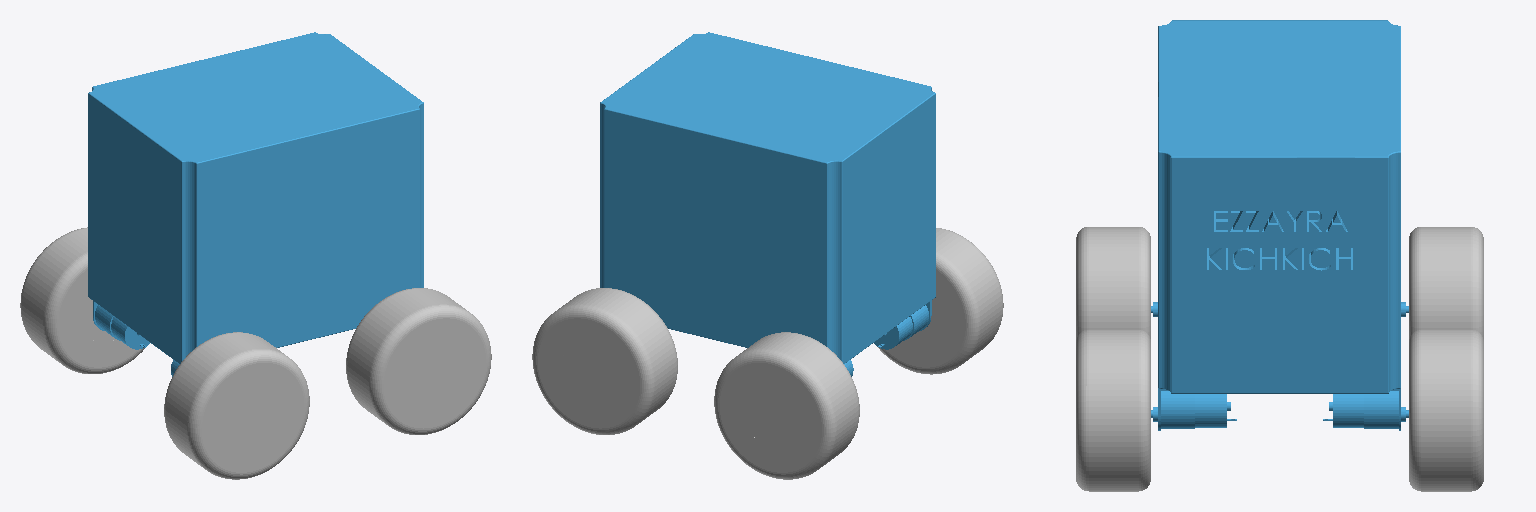
URDF robot description (bot):
<?xml version="1.0"?>
<robot name="bot">
    <gazebo>
        <plugin name="gazebo_ros_control" filename="libgazebo_ros_control.so">
            <legacyModeNS>true</legacyModeNS>
        </plugin>
    </gazebo>
<!--links-->

    <link name="base_footprint">
        <origin xyz="0.0 0.0 0.0" rpy="0.0 0.0 0.0"/>
    </link>
    <link name="base_link">
        <visual >
            <origin xyz="0.0 0.0 0.0" rpy="0.0 0.0 0.0"/>
            <geometry>
                <mesh filename="package://bot_description/models/meshes/body.dae"/>
            </geometry>
        </visual>
        <collision>
            <origin xyz="0.0 0.0 0.0" rpy="0.0 0.0 0.0"/>
            <geometry>
                <mesh filename="package://bot_description/models/meshes/body.dae"/>
            </geometry>
        </collision>
        <inertial>
            <origin xyz="0.0 0.0 0.0" rpy="0.0 0.0 0.0"/>
            <mass value="2.78"/>
            <inertia ixx="0.0290046666667" ixy="0.0" ixz="0.0" iyy="0.022153125" iyz="0.0" izz="0.0244697916667"/>
        </inertial>
    </link>
    <link name="imu_link">
        <inertial>
            <origin xyz="0.0 0.0 0.0" rpy="0.0 1.5707 0"/>
            <mass value="0.001"/>
            <inertia ixx="0.0000001" ixy="0.000000" ixz="0.000000" iyy="0.00000001" iyz="0.0" izz="0.000000001"/>
        </inertial>
        <visual>
            <origin xyz="0.0 0.0 0.0" rpy="0.0 0.0 0.0"/>
            <geometry>
                <box size="0.001 0.001 0.001"/>
            </geometry>
        </visual>
        <collision>
            <origin xyz="0.0 0.0 0.0" rpy="0.0 0.0 0.0"/>
            <geometry>
                <box size="0.001 0.001 0.001"/>
            </geometry>
        </collision>
    </link>
    <link name="RFW_link">
        <visual >
            <origin xyz="0.0 0.0 0.0" rpy="0.0 0.0 0.0"/>
            <geometry>
                <mesh filename="package://bot_description/models/meshes/roue.dae"/>
            </geometry>
        </visual>
        <collision>
            <origin xyz="0.0 0.0 0.0" rpy="0.0 0.0 0.0"/>
            <geometry>
                <mesh filename="package://bot_description/models/meshes/roue.dae"/>
            </geometry>
        </collision>
        <inertial>
            <origin xyz="0.0 0.0 0.0" rpy="0.0 0.0 0.0"/>
            <mass value="0.156"/>
            <inertia ixx="0.000211575" ixy="0.0" ixz="0.0" iyy="0.000211575" iyz="0.0" izz="0.00032955"/>
        </inertial>
    </link>
    <link name="LFW_link">
        <visual >
            <origin xyz="0.0 0.0 0.0" rpy="0.0 0.0 0.0"/>
            <geometry>
                <mesh filename="package://bot_description/models/meshes/roue.dae"/>
            </geometry>
        </visual>
        <collision>
            <origin xyz="0.0 0.0 0.0" rpy="0.0 0.0 0.0"/>
            <geometry>
                <mesh filename="package://bot_description/models/meshes/roue.dae"/>
            </geometry>
        </collision>
        <inertial>
            <origin xyz="0.0 0.0 0.0" rpy="0.0 0.0 0.0"/>
            <mass value="0.156"/>
            <inertia ixx="0.000211575" ixy="0.0" ixz="0.0" iyy="0.000211575" iyz="0.0" izz="0.00032955"/>
        </inertial>
    </link>
    <link name="RBW_link">
        <visual >
            <origin xyz="0.0 0.0 0.0" rpy="0.0 0.0 0.0"/>
            <geometry>
                <mesh filename="package://bot_description/models/meshes/roue.dae"/>
            </geometry>
        </visual>
        <collision>
            <origin xyz="0.0 0.0 0.0" rpy="0.0 0.0 0.0"/>
            <geometry>
                <mesh filename="package://bot_description/models/meshes/roue.dae"/>
            </geometry>
        </collision>
        <inertial>
            <origin xyz="0.0 0.0 0.0" rpy="0.0 0.0 0.0"/>
            <mass value="0.156"/>
            <inertia ixx="0.000211575" ixy="0.0" ixz="0.0" iyy="0.000211575" iyz="0.0" izz="0.00032955"/>
        </inertial>
    </link>
    <link name="LBW_link">
        <visual >
            <origin xyz="0.0 0.0 0.0" rpy="0.0 0.0 0.0"/>
            <geometry>
                <mesh filename="package://bot_description/models/meshes/roue.dae"/>
            </geometry>
        </visual>
        <collision>
            <origin xyz="0.0 0.0 0.0" rpy="0.0 0.0 0.0"/>
            <geometry>
                <mesh filename="package://bot_description/models/meshes/roue.dae"/>
            </geometry>
        </collision>
        <inertial>
            <origin xyz="0.0 0.0 0.0" rpy="0.0 0.0 0.0"/>
            <mass value="0.156"/>
            <inertia ixx="0.000211575" ixy="0.0" ixz="0.0" iyy="0.000211575" iyz="0.0" izz="0.00032955"/>
        </inertial>
    </link>
<!--joints-->
    <joint name="base_joint" type="fixed">
        <origin xyz="0.0 0.0 0.0" rpy="0.0 0.0 1.5707"/>
        <parent link="base_footprint"/>
        <child link="base_link"/>
    </joint>
    <joint name="imu_joint" type="fixed">
        <origin xyz="0.0 0.0 0.1" rpy="0.0 0.0 0.0"/>
        <parent link="base_link"/>
        <child link="imu_link"/>
    </joint>
    <joint name="RFW_joint" type="continuous">
        <origin xyz="0.130 0.0975 0.0" rpy="0.0 0.0 0.0"/>
        <parent link="base_link"/>
        <child link="RFW_link"/>
        <axis xyz="1.0 0.0 0.0"/>
        <limit effort="100" velocity="100"/> 
    </joint>
    <joint name="LFW_joint" type="continuous">
        <origin xyz="-0.137 0.0975 0.0" rpy="0.0 0.0 0.0"/>
        <parent link="base_link"/>
        <child link="LFW_link"/>
        <axis xyz="1.0 0.0 0.0"/>
        <limit effort="100" velocity="100"/> 
    </joint>
    <joint name="RBW_joint" type="continuous">
        <origin xyz="0.130 -0.0975 0.0" rpy="0.0 0.0 0.0"/>
        <parent link="base_link"/>
        <child link="RBW_link"/>
        <axis xyz="1.0 0.0 0.0"/>
        <limit effort="100" velocity="100"/> 
    </joint>
    <joint name="LBW_joint" type="continuous">
        <origin xyz="-0.137 -0.0975 0.0" rpy="0.0 0.0 0.0"/>
        <parent link="base_link"/>
        <child link="LBW_link"/>
        <axis xyz="1.0 0.0 0.0"/>
        <limit effort="100" velocity="100"/> 
    </joint>


<!--gazebo plugins-->
    <gazebo reference="RFW_link">
        <mu1>20000000000.0</mu1>
	    <mu2>20000000000.0</mu2>
	    <kp>1000000.0</kp>
	    <kd>1.0</kd>
	    <material>Gazebo/Black</material>
	</gazebo>
    <gazebo reference="LFW_link">
        <mu1>20000000000.0</mu1>
	    <mu2>20000000000.0</mu2>
	    <kp>1000000.0</kp>
	    <kd>1.0</kd>
	    <material>Gazebo/Black</material>
	</gazebo>
    <gazebo reference="RBW_link">
        <mu1>20000000000.0</mu1>
	    <mu2>20000000000.0</mu2>
	    <kp>1000000.0</kp>
	    <kd>1.0</kd>
	    <material>Gazebo/Black</material>
	</gazebo>
    <gazebo reference="LBW_link">
        <mu1>20000000000.0</mu1>
	    <mu2>20000000000.0</mu2>
	    <kp>1000000.0</kp>
	    <kd>1.0</kd>
	    <material>Gazebo/Black</material>
	</gazebo>
    <gazebo reference="base_link">
	    <material>Gazebo/Orange</material>
	</gazebo>

    <gazebo>
    <plugin name="imu_plugin" filename="libgazebo_ros_imu.so">
      <alwaysOn>true</alwaysOn>
      <bodyName>base_footprint</bodyName>
      <topicName>imu</topicName>
      <serviceName>imu_service</serviceName>
      <gaussianNoise>0.0</gaussianNoise>
      <updateRate>20.0</updateRate>
    </plugin>
  </gazebo>
    
    <gazebo>
        <plugin name="skid_steer_drive_controller" filename="libgazebo_ros_skid_steer_drive.so">
            <updateRate>100.0</updateRate>
            <leftFrontJoint>RFW_joint</leftFrontJoint>
            <rightFrontJoint>LFW_joint</rightFrontJoint>
            <leftRearJoint>RBW_joint</leftRearJoint>
            <rightRearJoint>LBW_joint</rightRearJoint>
            <wheelSeparation>0.21</wheelSeparation>
            <wheelDiameter>0.13</wheelDiameter>
            <robotBaseFrame>base_footprint</robotBaseFrame>
            <torque>20</torque>
            <topicName>cmd_vel</topicName>
            <broadcastTF>true</broadcastTF>
        </plugin>
    </gazebo>
    <gazebo>
        <plugin name="gps_controller" filename="libhector_gazebo_ros_gps.so">
            <alwayson>true</alwayson>
            <updaterate>1.0</updaterate>
            <bodyname>base_link</bodyname>
            <topicname>/fix</topicname>
            <velocitytopicname>/fix_velocity</velocitytopicname>
            <drift>5.0 5.0 5.0</drift>
            <gaussiannoise>0.1 0.1 0.1</gaussiannoise>
            <velocitydrift>0 0 0</velocitydrift>
            <velocitygaussiannoise>0.1 0.1 0.1</velocitygaussiannoise>
        </plugin>
    </gazebo>
<!--transmissions-->
    <transmission name="RFW_transmission">
        <type>transmission_interface/SimpleTransmission</type>
        <joint name="RFW_joint">
            <hardwareInterface>hardware_interface/EffortJointInterface</hardwareInterface>  
        </joint>
        <actuator name="RFW_actuator">
            <mechanicalReduction>7</mechanicalReduction>
            <hardwareInterface>hardware_interface/EffortJointInterface</hardwareInterface>
        </actuator>
    </transmission>

    <transmission name="LFW_transmission">
        <type>transmission_interface/SimpleTransmission</type>
        <joint name="LFW_joint">
            <hardwareInterface>hardware_interface/EffortJointInterface</hardwareInterface>  
        </joint>
        <actuator name="LFW_actuator">
            <mechanicalReduction>7</mechanicalReduction>
            <hardwareInterface>hardware_interface/EffortJointInterface</hardwareInterface>
        </actuator>
    </transmission>

    <transmission name="RBW_transmission">
        <type>transmission_interface/SimpleTransmission</type>
        <joint name="RBW_joint">
            <hardwareInterface>hardware_interface/EffortJointInterface</hardwareInterface>  
        </joint>
        <actuator name="RBW_actuator">
            <mechanicalReduction>7</mechanicalReduction>
            <hardwareInterface>hardware_interface/EffortJointInterface</hardwareInterface>
        </actuator>
    </transmission>

    <transmission name="LBW_transmission">
        <type>transmission_interface/SimpleTransmission</type>
        <joint name="LBW_joint">
            <hardwareInterface>hardware_interface/EffortJointInterface</hardwareInterface>  
        </joint>
        <actuator name="LBW_actuator">
            <mechanicalReduction>7</mechanicalReduction>
            <hardwareInterface>hardware_interface/EffortJointInterface</hardwareInterface>
        </actuator>
    </transmission>
    

</robot>

--- Render facts (derived) ---
3 views of the same robot in one strip: view 1: azimuth 30°, elevation 25°; view 2: azimuth 150°, elevation 25°; view 3: azimuth 270°, elevation 25° (orthographic).
Model bot with 7 links and 6 joints (4 continuous, 2 fixed), rooted at base_footprint, posed every joint at zero.
Visible links, largest first — view 1: base_link, LFW_link, LBW_link, RFW_link; view 2: base_link, RBW_link, RFW_link, LFW_link; view 3: base_link, RBW_link, LBW_link, RFW_link, LFW_link.
Boxes of the visible links, x1,y1,x2,y2 form: base_link: (88,32,423,376); LFW_link: (164,332,309,479); LBW_link: (346,288,491,434); RFW_link: (20,227,144,373); base_link: (600,32,935,376); RBW_link: (532,288,677,434); RFW_link: (714,332,859,479); LFW_link: (878,228,1003,374); base_link: (1151,20,1408,430); RBW_link: (1409,329,1483,491); LBW_link: (1076,329,1150,491); RFW_link: (1409,227,1483,338); LFW_link: (1076,227,1150,338).
Size in the robot's own frame: 0.3249 by 0.327 by 0.3045 metres.
5 mesh visuals loaded from 2 distinct referenced files (2 Collada DAE).
